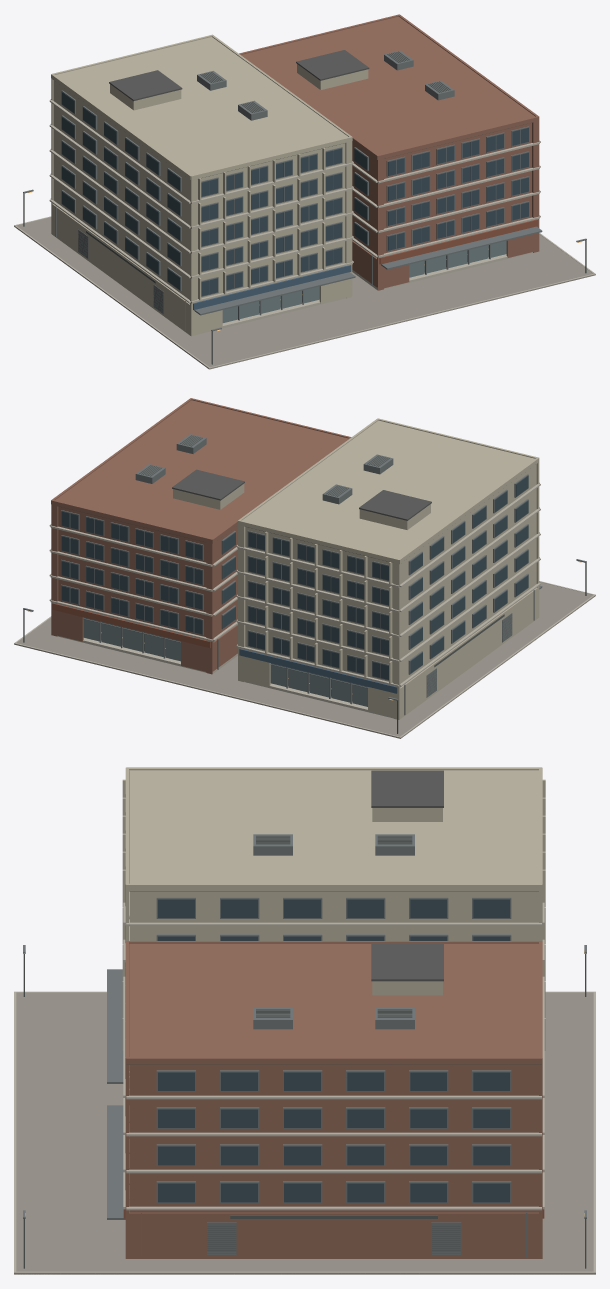
Rendered from block-1-2.glb.
3 views of the same model, one above another, from view 1: azimuth 30°, elevation 25°; view 2: azimuth 150°, elevation 25°; view 3: azimuth 270°, elevation 25° (orthographic). The views are drawn at different scales.
Visible parts, largest first — view 1: block-1-2:stucco, block-1-2:brick, block-1-2:glass, block-1-2:paversGrey, block-1-2:aluminium, block-1-2:concrete, block-1-2:roof, block-1-2:shopGlass, block-1-2:darkSteel, block-1-2:oxideTrim, block-1-2:blueTrim; view 2: block-1-2:stucco, block-1-2:brick, block-1-2:glass, block-1-2:aluminium, block-1-2:paversGrey, block-1-2:concrete, block-1-2:shopGlass, block-1-2:roof, block-1-2:darkSteel, block-1-2:oxideTrim, block-1-2:blueTrim; view 3: block-1-2:brick, block-1-2:stucco, block-1-2:paversGrey, block-1-2:glass, block-1-2:aluminium, block-1-2:concrete, block-1-2:roof, block-1-2:darkSteel.
Boxes of the visible parts, box(x1,y1,x2,y2) form: block-1-2:stucco: box(51, 34, 368, 336); block-1-2:brick: box(239, 14, 539, 290); block-1-2:glass: box(61, 92, 528, 296); block-1-2:paversGrey: box(15, 217, 595, 369); block-1-2:aluminium: box(23, 50, 586, 331); block-1-2:concrete: box(14, 99, 595, 369); block-1-2:roof: box(109, 50, 531, 180); block-1-2:shopGlass: box(222, 241, 506, 322); block-1-2:darkSteel: box(23, 51, 586, 364); block-1-2:oxideTrim: box(379, 219, 537, 264); block-1-2:blueTrim: box(193, 265, 351, 309); block-1-2:stucco: box(173, 418, 539, 719); block-1-2:brick: box(51, 398, 351, 674); block-1-2:glass: box(61, 475, 528, 679); block-1-2:aluminium: box(23, 434, 586, 715); block-1-2:paversGrey: box(14, 582, 595, 738); block-1-2:concrete: box(14, 482, 595, 738); block-1-2:shopGlass: box(83, 617, 367, 706); block-1-2:roof: box(58, 469, 431, 561); block-1-2:darkSteel: box(23, 435, 586, 733); block-1-2:oxideTrim: box(52, 603, 210, 647); block-1-2:blueTrim: box(239, 648, 397, 693); block-1-2:brick: box(125, 941, 542, 1258); block-1-2:stucco: box(122, 767, 545, 1095); block-1-2:paversGrey: box(14, 993, 595, 1274); block-1-2:glass: box(158, 899, 509, 1202); block-1-2:aluminium: box(23, 794, 586, 1257); block-1-2:concrete: box(14, 902, 595, 1274); block-1-2:roof: box(126, 770, 541, 1064); block-1-2:darkSteel: box(23, 835, 586, 1268).
Size of the model in its own units: 48 by 20.31 by 42.
